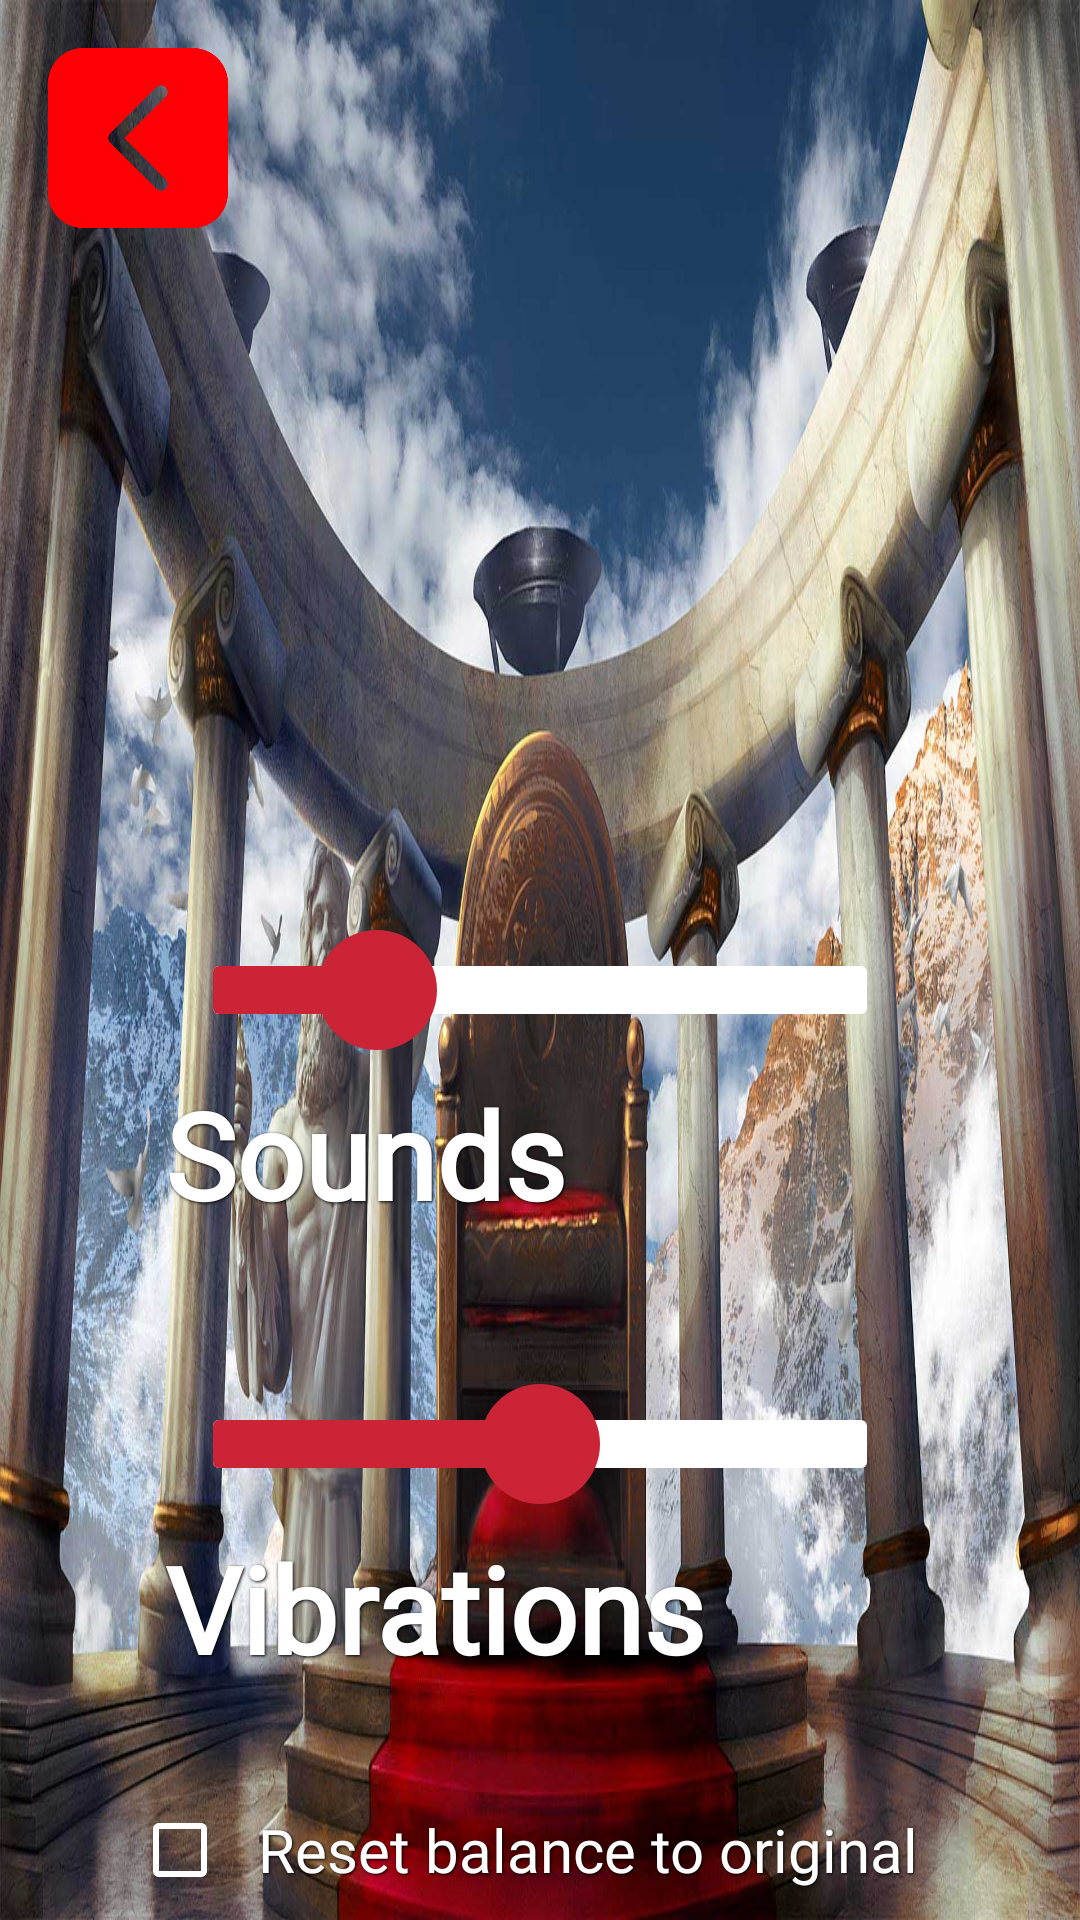

Named icons in this screenshot (1080w x 1920h) and their centers, (x,y):
aff back: (138,138)
